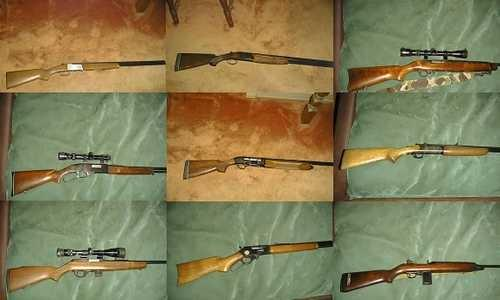heavyweapon: (168, 220, 336, 291), (336, 115, 500, 184), (350, 35, 500, 94), (0, 145, 170, 197), (334, 245, 497, 299), (3, 243, 160, 287), (7, 48, 161, 91), (178, 45, 331, 82), (178, 154, 331, 189)
